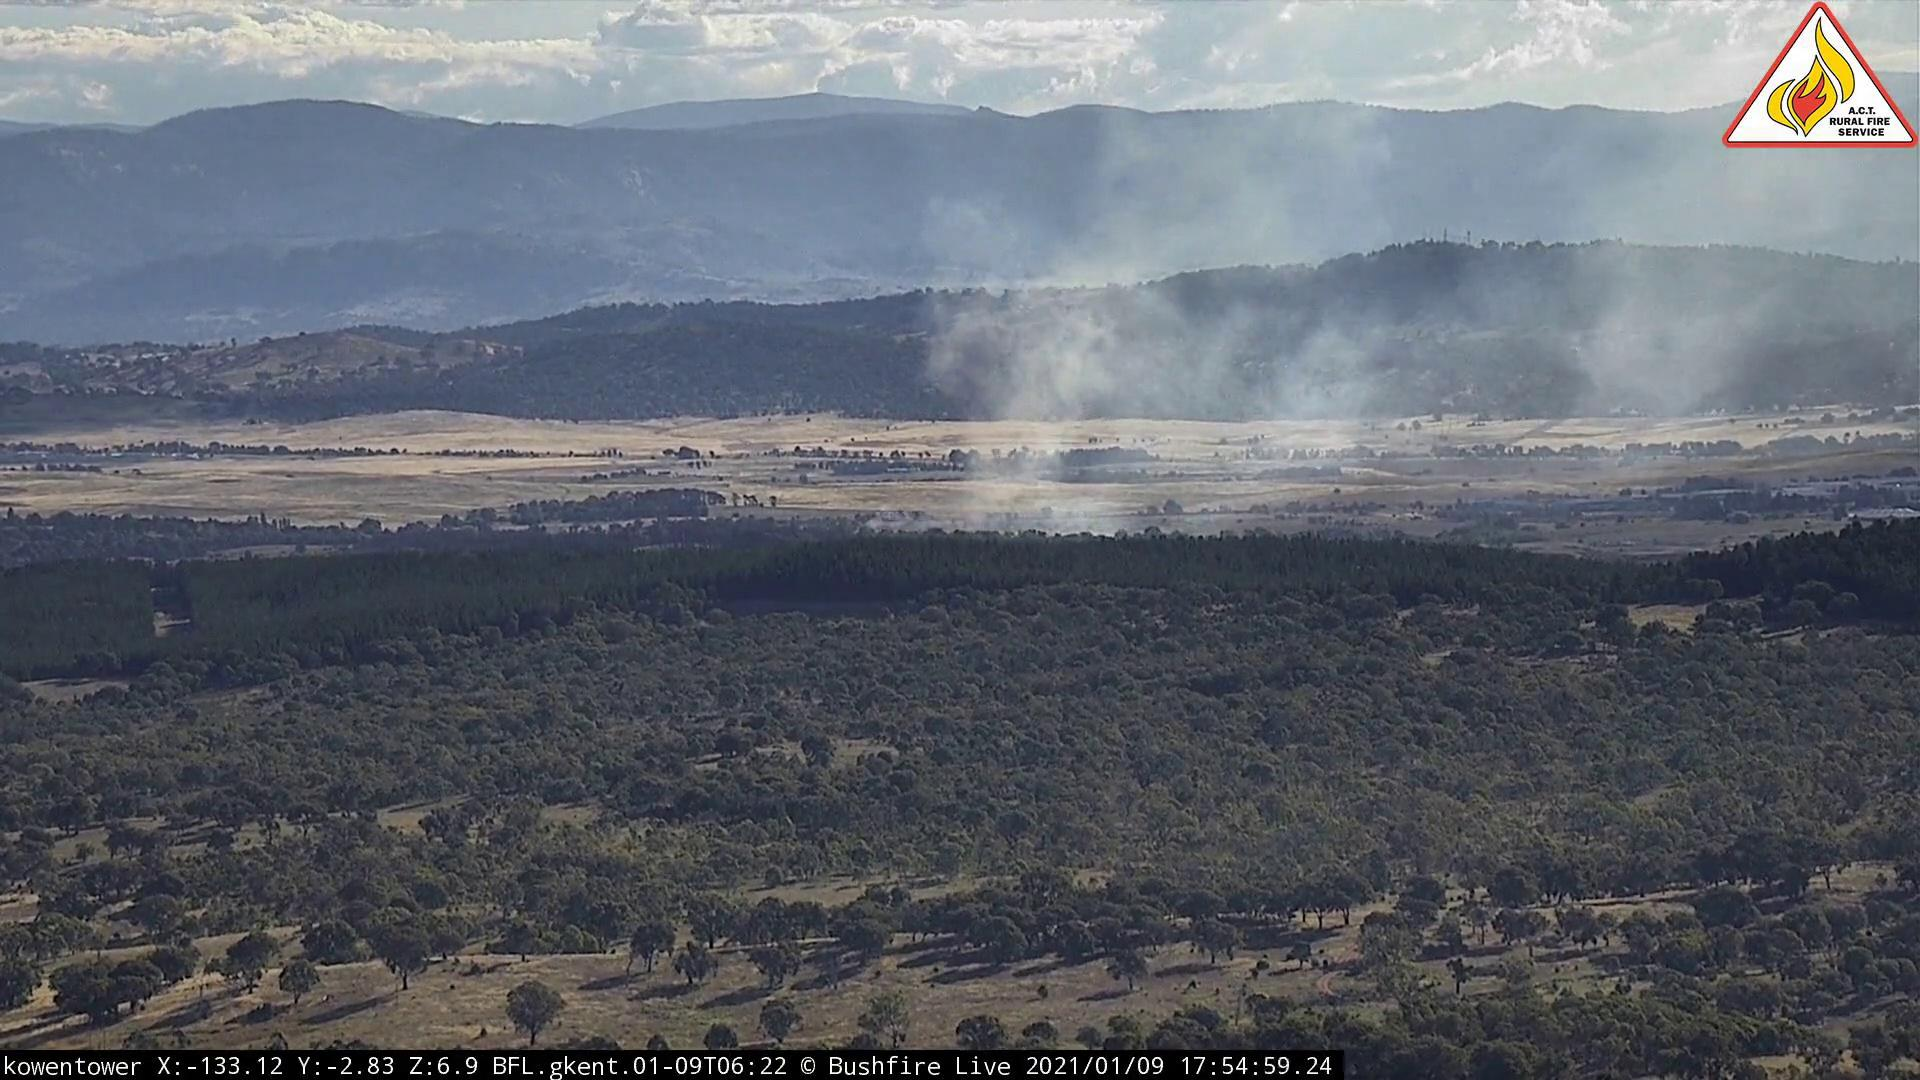Smoke: (882, 108, 1714, 542)
